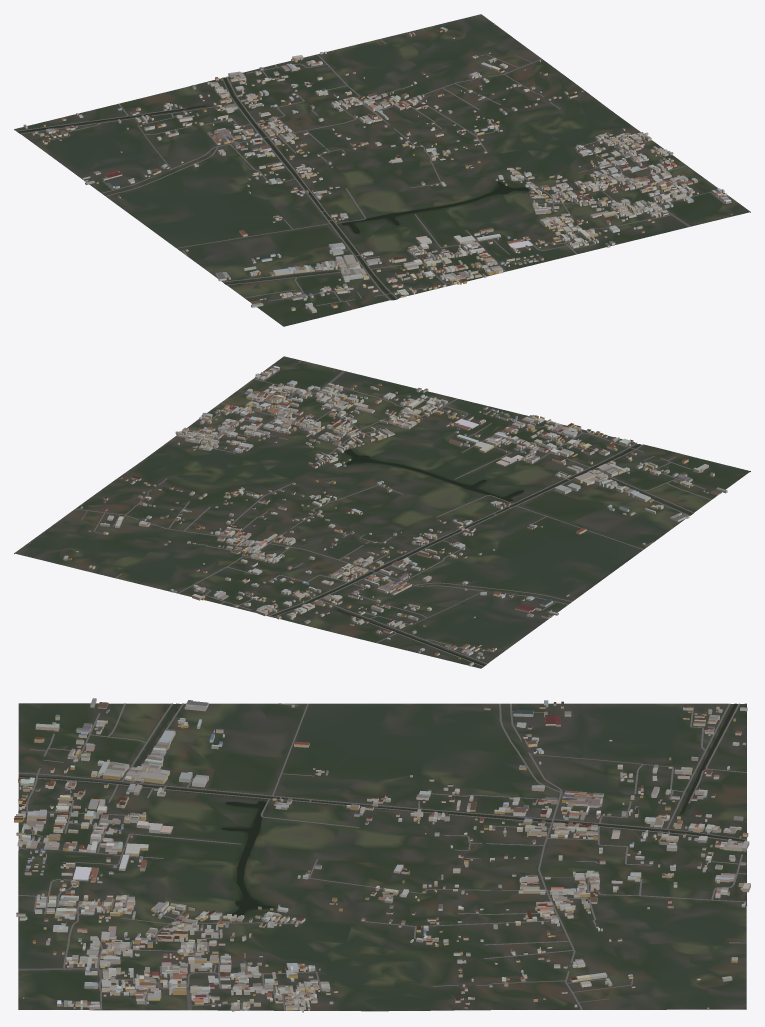
3 renders of one model, top to bottom at view 1: azimuth 30°, elevation 25°; view 2: azimuth 150°, elevation 25°; view 3: azimuth 270°, elevation 25°, orthographic. The views are drawn at different scales.
Visible parts, largest first — view 1: ground, buildings, roads, water; view 2: ground, buildings, roads, water; view 3: ground, buildings, roads, water.
Boxes of the visible parts, <box> form: ground: <box>14,14,750,326</box>; buildings: <box>23,23,732,313</box>; roads: <box>17,39,725,306</box>; water: <box>18,78,529,299</box>; ground: <box>14,356,750,668</box>; buildings: <box>29,360,727,666</box>; roads: <box>75,369,711,666</box>; water: <box>270,444,692,665</box>; ground: <box>18,703,746,1011</box>; buildings: <box>14,698,750,1012</box>; roads: <box>18,703,747,1010</box>; water: <box>18,703,744,917</box>.
Size of the model in its own units: 1419 by 18.75 by 1417.
